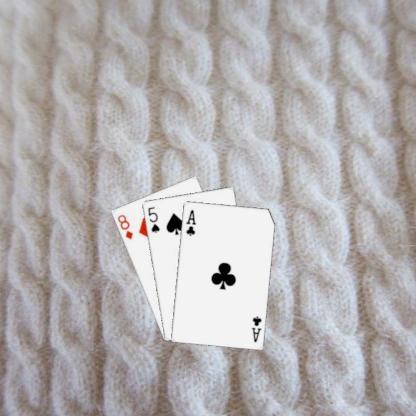5S: (145, 204, 160, 234)
8D: (114, 212, 134, 241)
AC: (183, 207, 197, 236), (249, 313, 262, 343)
